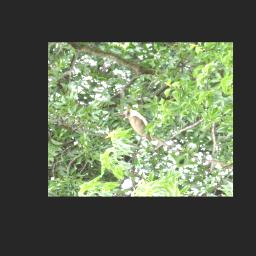Cuckoo: (111, 103, 190, 152)
